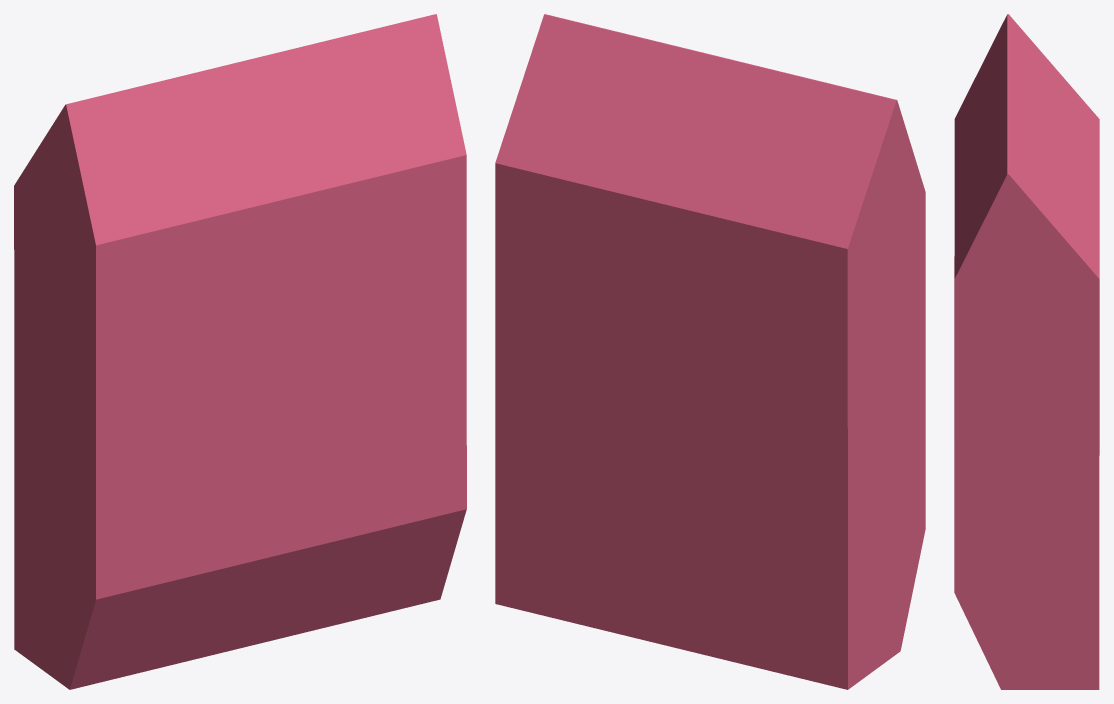
Rendered from corp.fbx.
3 renders of one model, left to right at view 1: azimuth 30°, elevation 25°; view 2: azimuth 150°, elevation 25°; view 3: azimuth 270°, elevation 25°, orthographic. The views are drawn at different scales.
Visible parts, largest first — view 1: Cube.004; view 2: Cube.004; view 3: Cube.004.
Part boxes in pixels (x1=…): Cube.004: x1=14, y1=14, x2=466, y2=689; Cube.004: x1=495, y1=14, x2=925, y2=689; Cube.004: x1=954, y1=14, x2=1099, y2=689.
Bounding box in the file's own units: 373 × 560 × 143.
